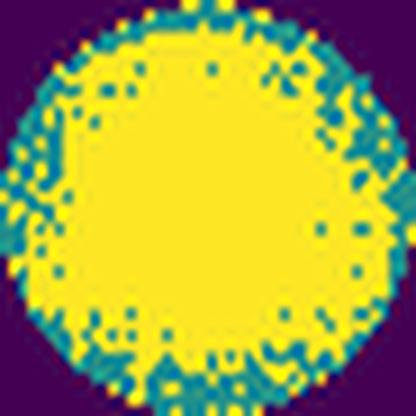Near-full: (24, 36, 397, 380)
